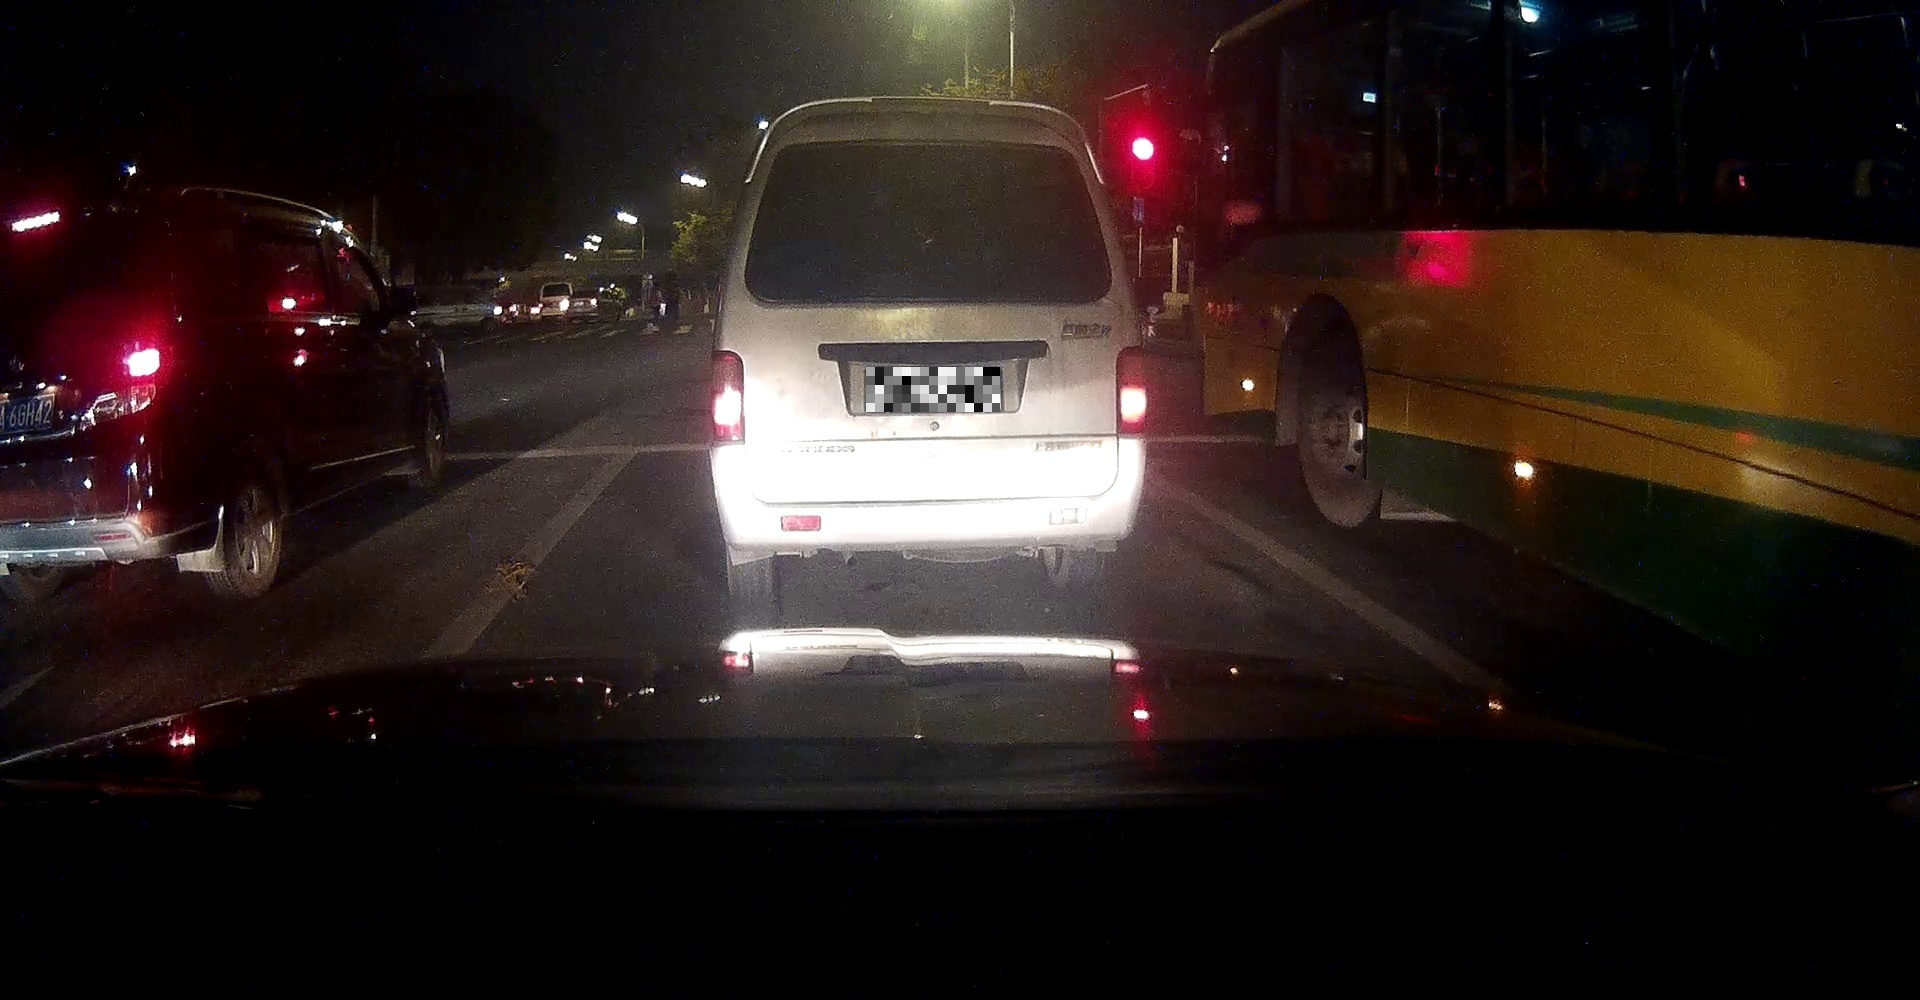L_light: (709, 350, 744, 449)
R_light: (1115, 344, 1148, 435)
T_light: (903, 140, 943, 152)
night-no: (709, 95, 1148, 600)
plate_1: (866, 367, 1001, 412)
